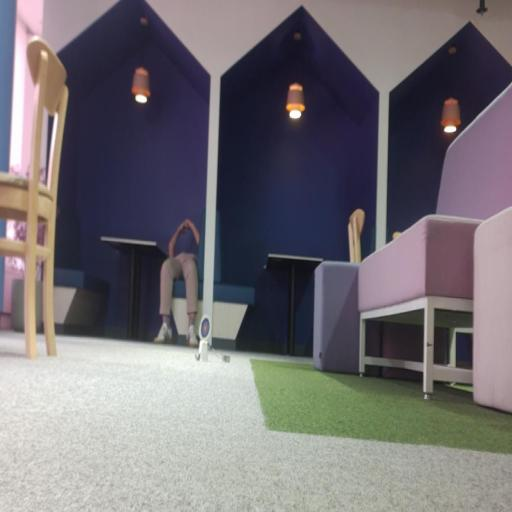target: (199, 314, 210, 341)
